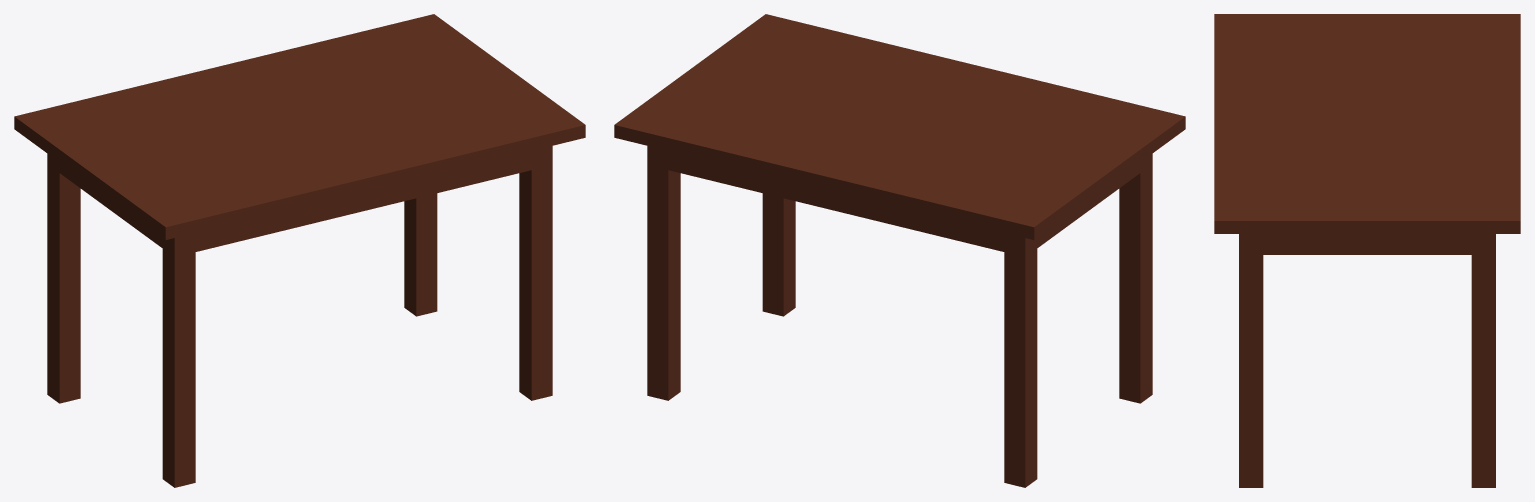
File: parametric-table-2nd.glb
3 views of the same model, side by side, from view 1: azimuth 30°, elevation 25°; view 2: azimuth 150°, elevation 25°; view 3: azimuth 270°, elevation 25° (orthographic).
Visible parts, largest first — view 1: parametric-table-2nd; view 2: parametric-table-2nd; view 3: parametric-table-2nd.
Boxes of the visible parts, bbox=[...] form: parametric-table-2nd: bbox=[14, 14, 585, 487]; parametric-table-2nd: bbox=[614, 14, 1185, 487]; parametric-table-2nd: bbox=[1214, 14, 1520, 487].
Size of the model in its own units: 1.2 by 0.75 by 0.75.
